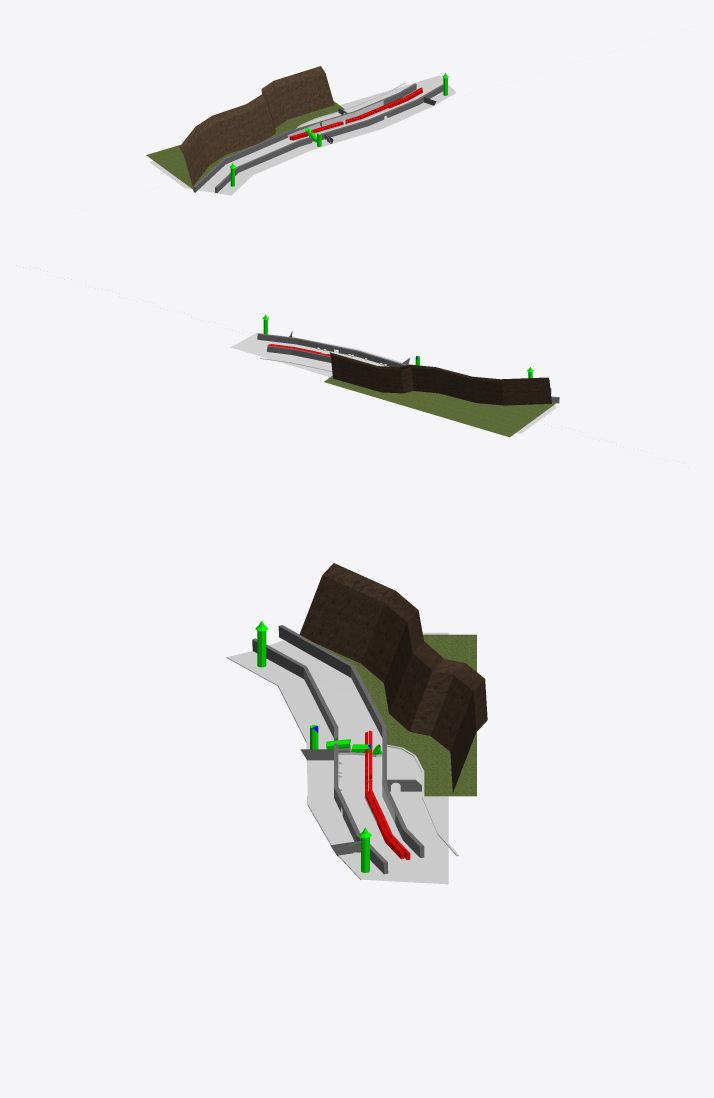
Rendered from MAP_BETA2.glb.
3 renders of one model, top to bottom at view 1: azimuth 30°, elevation 25°; view 2: azimuth 150°, elevation 25°; view 3: azimuth 270°, elevation 25°, orthographic. The views are drawn at different scales.
Visible parts, largest first — view 1: Block Outter Mountain, _COLL, Block Gorund, Block Outter Grass, Block High Wall 2, Block High Wall 1; view 2: Block Outter Mountain, Block Outter Grass, _COLL, Block High Wall 1, Block High Wall 2; view 3: Block Outter Mountain, _COLL, Block Gorund, Block Outter Grass, Block High Wall 2, Block High Wall 1.
Part boxes in pixels (<box>): Block Outter Mountain: <box>179,66,334,186</box>; _COLL: <box>287,75,455,150</box>; Block Gorund: <box>149,93,456,195</box>; Block Outter Grass: <box>146,101,344,189</box>; Block High Wall 2: <box>193,83,416,192</box>; Block High Wall 1: <box>215,84,443,192</box>; Block Outter Mountain: <box>329,352,551,405</box>; Block Outter Grass: <box>324,376,557,437</box>; _COLL: <box>231,331,409,376</box>; Block High Wall 1: <box>257,333,551,393</box>; Block High Wall 2: <box>267,345,559,403</box>; Block Outter Mountain: <box>299,563,487,792</box>; _COLL: <box>300,738,448,884</box>; Block Gorund: <box>226,632,448,879</box>; Block Outter Grass: <box>316,634,476,796</box>; Block High Wall 2: <box>278,625,424,857</box>; Block High Wall 1: <box>252,638,388,874</box>.
Bounding box in the file's own units: 1332 × 101 × 223.
Materials: 7 (2 with a texture image).
